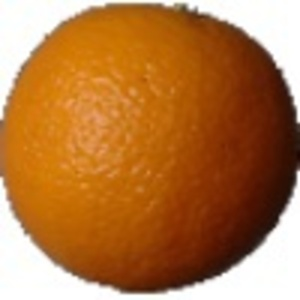laranja: (3, 2, 298, 294)
